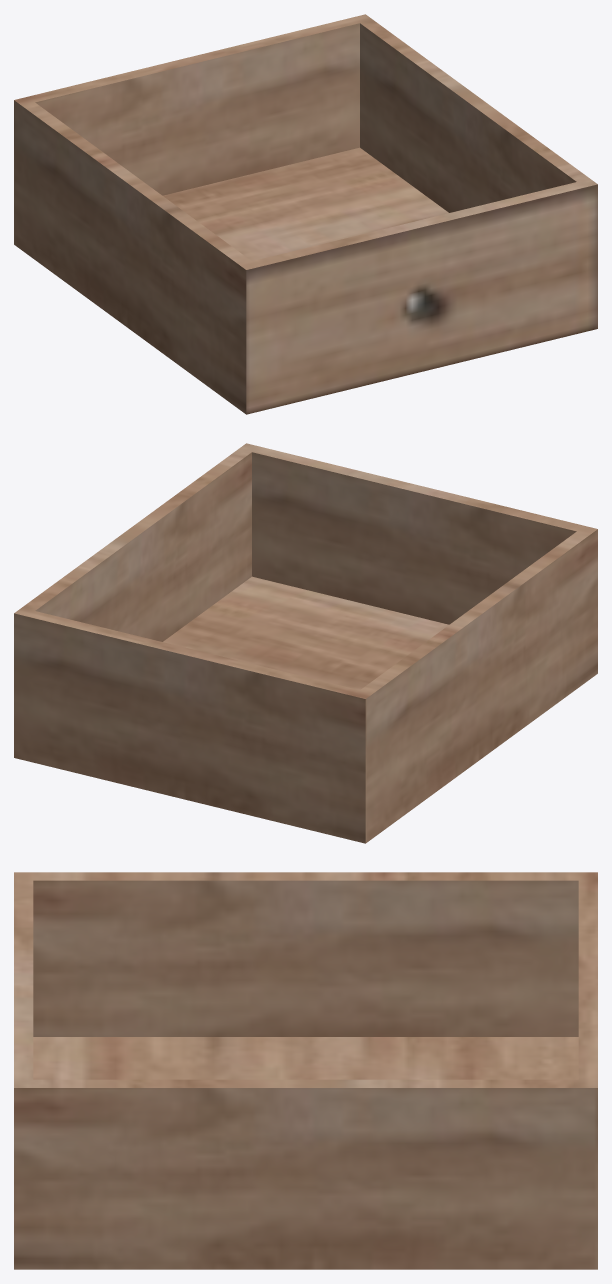
File: Chest_drawers_06_003-col.glb
The picture shows the model from 3 angles, top to bottom: view 1: azimuth 30°, elevation 25°; view 2: azimuth 150°, elevation 25°; view 3: azimuth 270°, elevation 25°; orthographic projection. The views are drawn at different scales.
Parts seen in each view (by area): view 1: Chest_drawers_06.003-col; view 2: Chest_drawers_06.003-col; view 3: Chest_drawers_06.003-col.
Boxes of the visible parts, x1,y1,x2,y2 form: Chest_drawers_06.003-col: (14, 14, 597, 414); Chest_drawers_06.003-col: (14, 443, 597, 843); Chest_drawers_06.003-col: (14, 872, 597, 1269).
Bounding box in the file's own units: 0.3799 × 0.1492 × 0.4348.
Materials: 1 (1 with a texture image).
